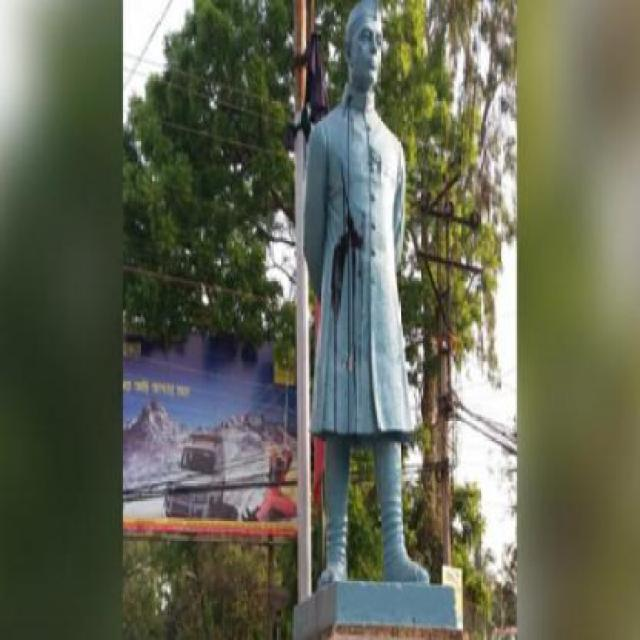Person: (298, 2, 434, 583)
